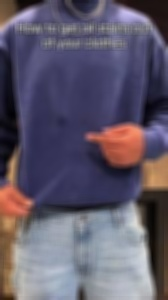oil: (97, 162, 120, 177), (53, 112, 67, 124), (89, 149, 101, 163)
